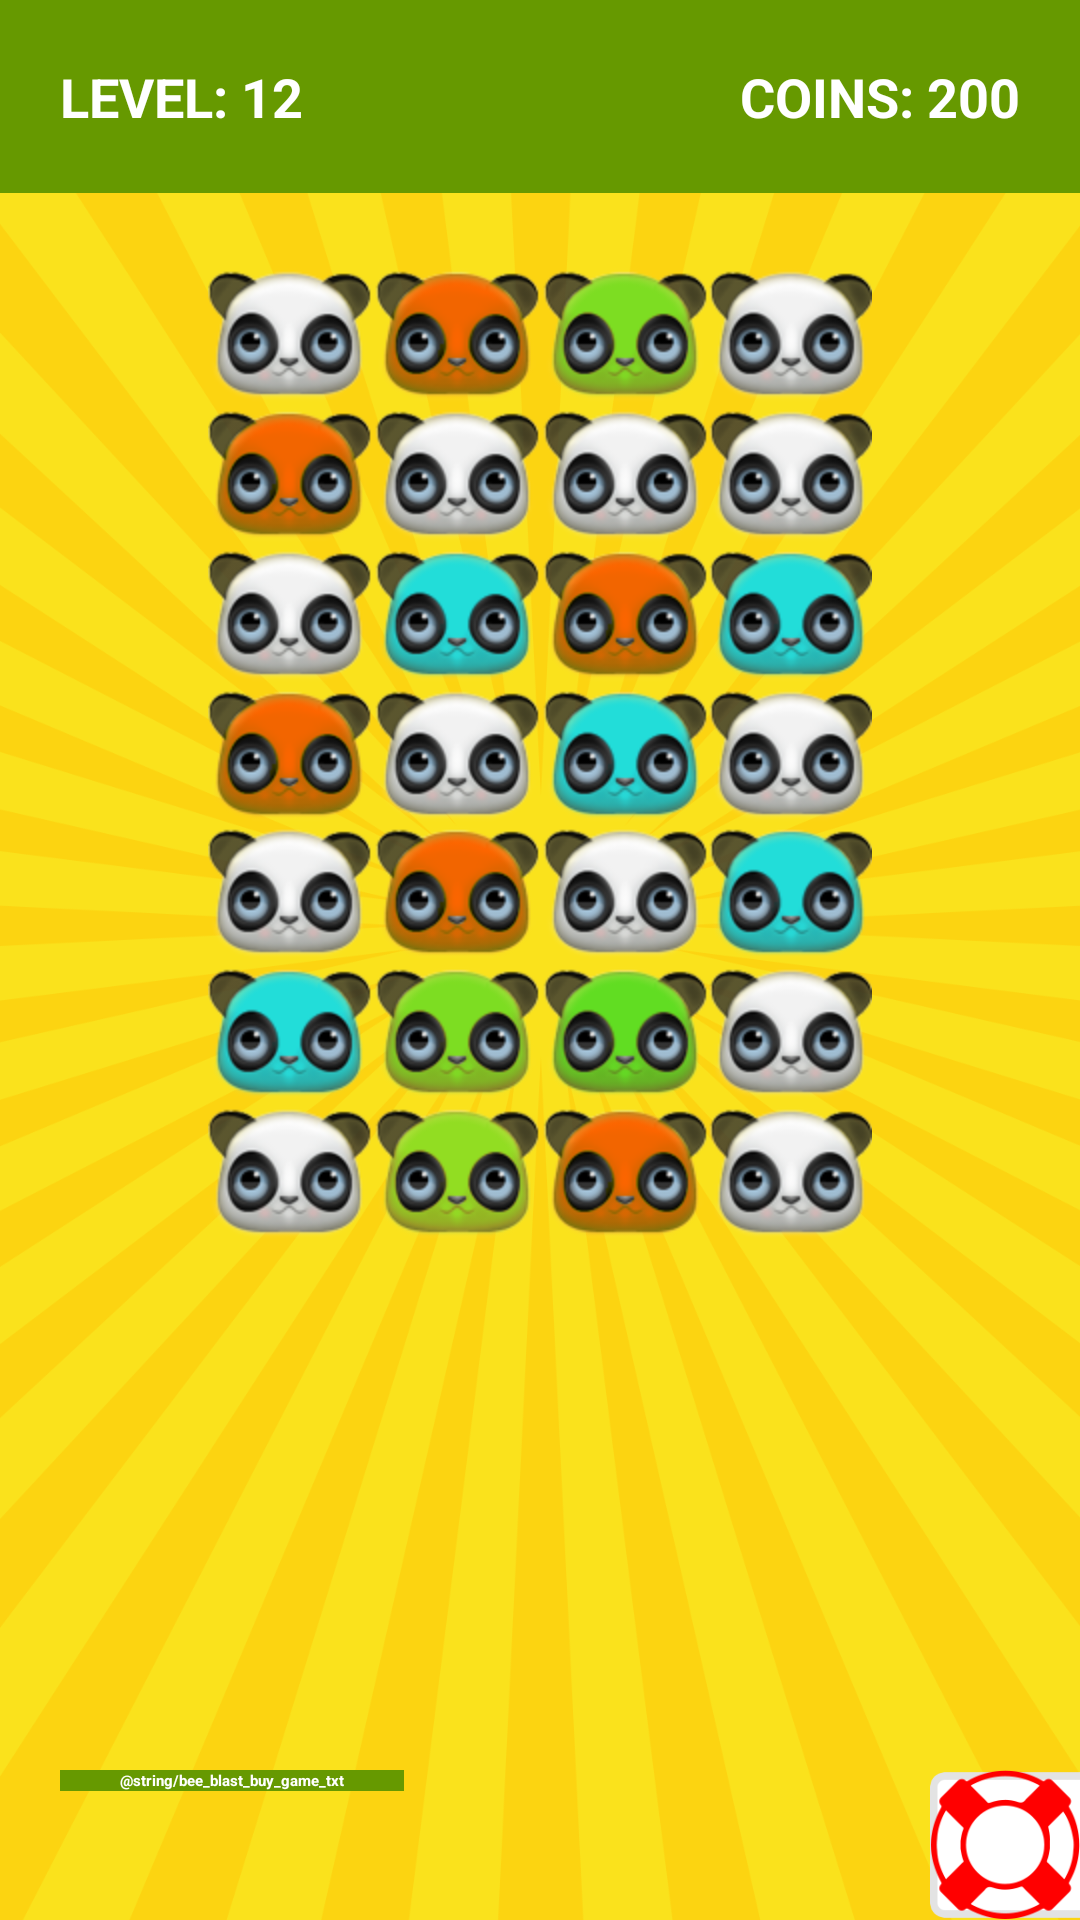

Named icons in this screenshot (1080 × 1920) and their bounding boxes, (x1, y1, x2, y2):
lifesaver: (930, 1770, 1080, 1919)
